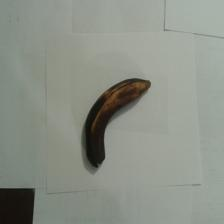Banana Rotten: (71, 57, 154, 172)
